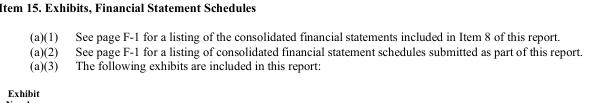table: (29, 29, 581, 71)
table column: (65, 29, 581, 71), (29, 29, 65, 71)
table row: (29, 29, 581, 43), (29, 43, 581, 57), (29, 57, 581, 71)
